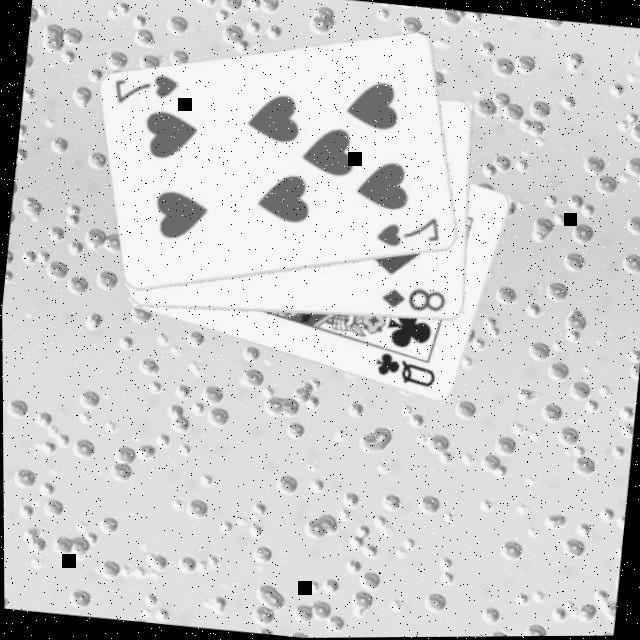7H: (370, 206, 444, 254), (108, 64, 182, 111)
8D: (376, 280, 448, 315)
QC: (367, 346, 439, 391)
